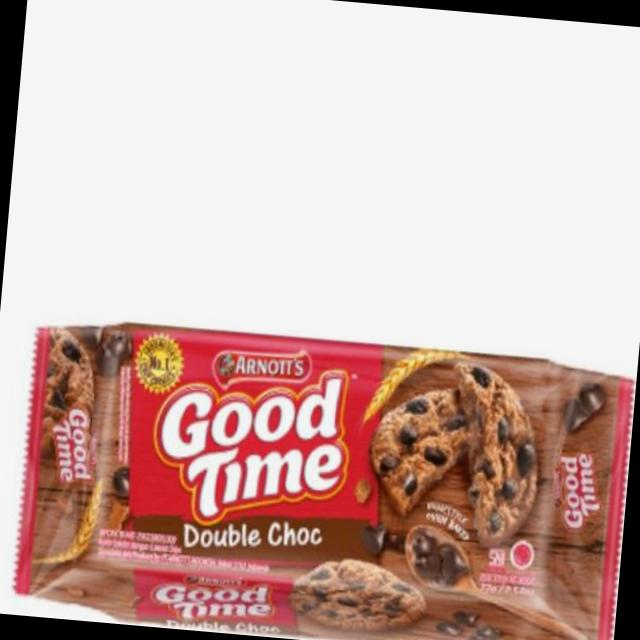KemasanPlastik: (1, 307, 637, 640)
